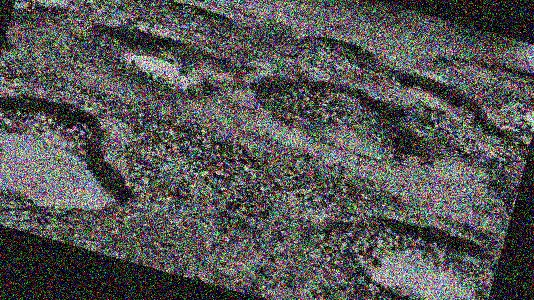pothole: (0, 79, 158, 233), (242, 59, 437, 178), (297, 190, 505, 300), (381, 67, 534, 186), (71, 13, 249, 112), (17, 0, 247, 57), (429, 44, 534, 104), (302, 28, 386, 75)
